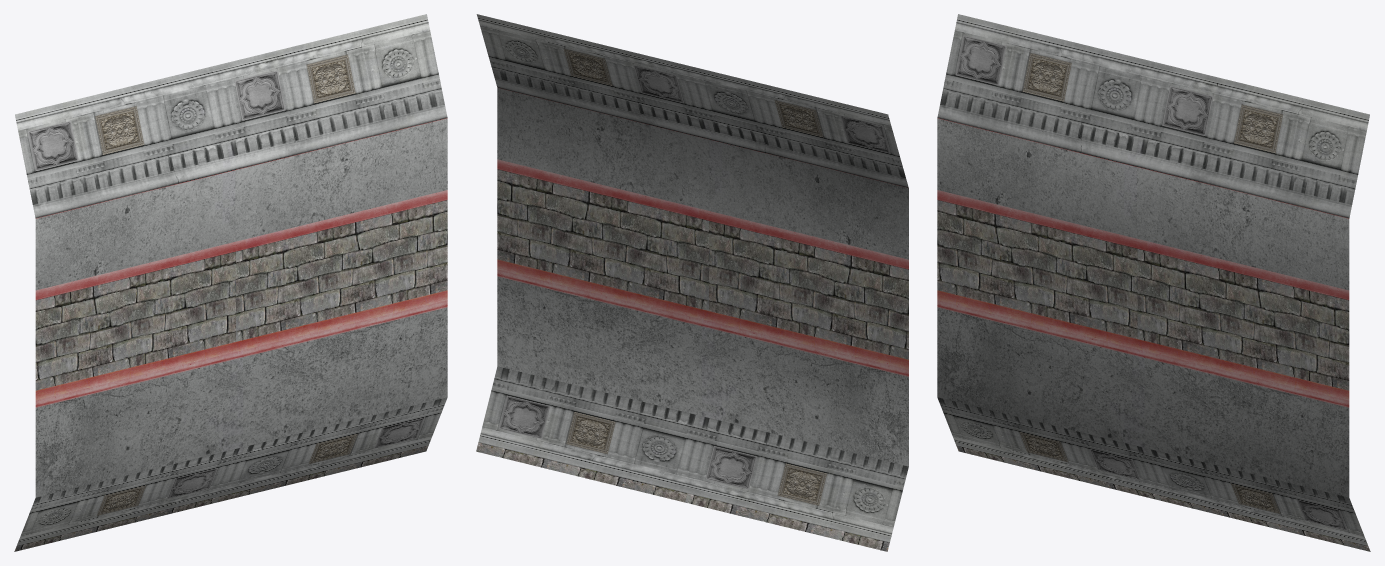
File: CarlosMelendez_Wall.fbx
The picture shows the model from 3 angles, left to right: view 1: azimuth 30°, elevation 25°; view 2: azimuth 150°, elevation 25°; view 3: azimuth 330°, elevation 25°; orthographic projection.
Parts seen in each view (by area): view 1: pCube1; view 2: pCube1; view 3: pCube1.
Boxes of the visible parts, <box> form: pCube1: <box>14,14,447,551</box>; pCube1: <box>476,14,908,551</box>; pCube1: <box>937,14,1370,551</box>.
Bounding box in the file's own units: 3.01 × 3.05 × 0.2695.
